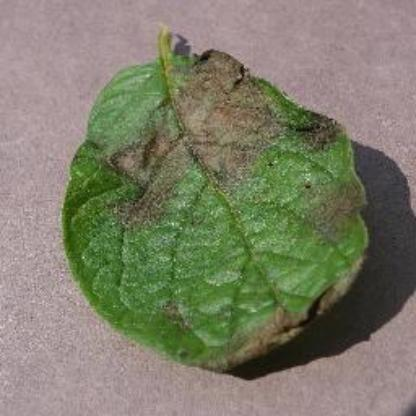Late-Blight: (56, 22, 384, 374)
